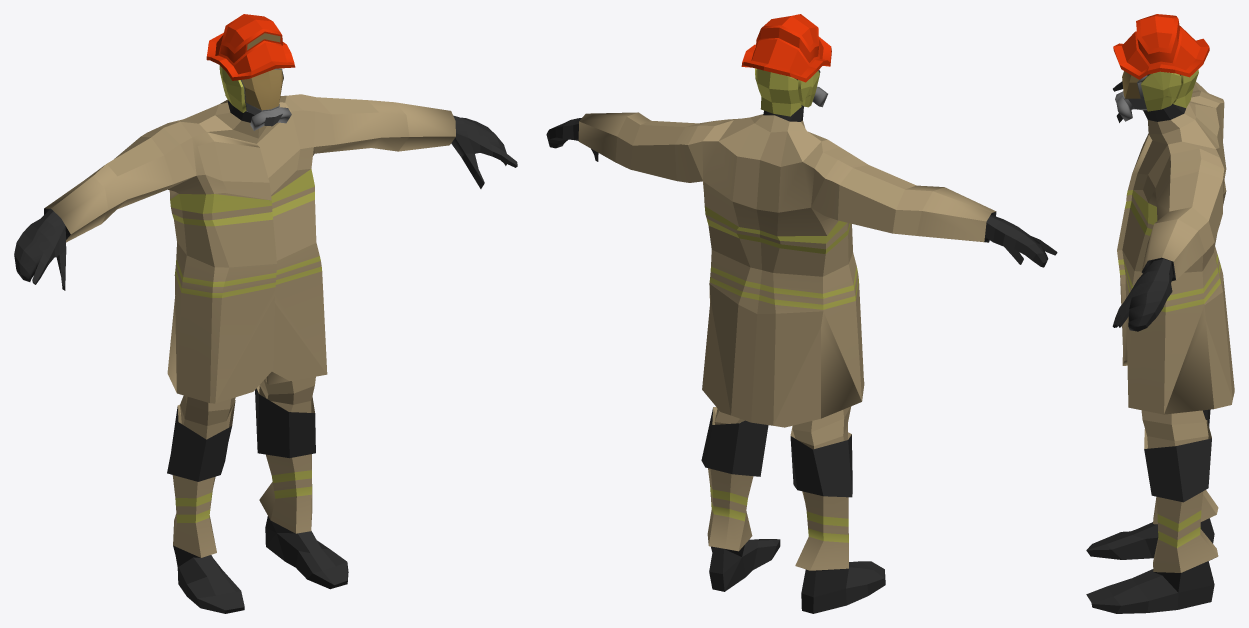
The model's file is ffmodel.fbx.
The picture shows the model from 3 angles, left to right: view 1: azimuth 30°, elevation 25°; view 2: azimuth 150°, elevation 25°; view 3: azimuth 270°, elevation 25°; orthographic projection.
Parts seen in each view (by area): view 1: male_Circle.008; view 2: male_Circle.008; view 3: male_Circle.008.
Part boxes in pixels (<box>): male_Circle.008: <box>14,14,517,613</box>; male_Circle.008: <box>546,14,1057,613</box>; male_Circle.008: <box>1086,14,1234,613</box>.
Size of the model in its own units: 189 by 49.58 by 207.
